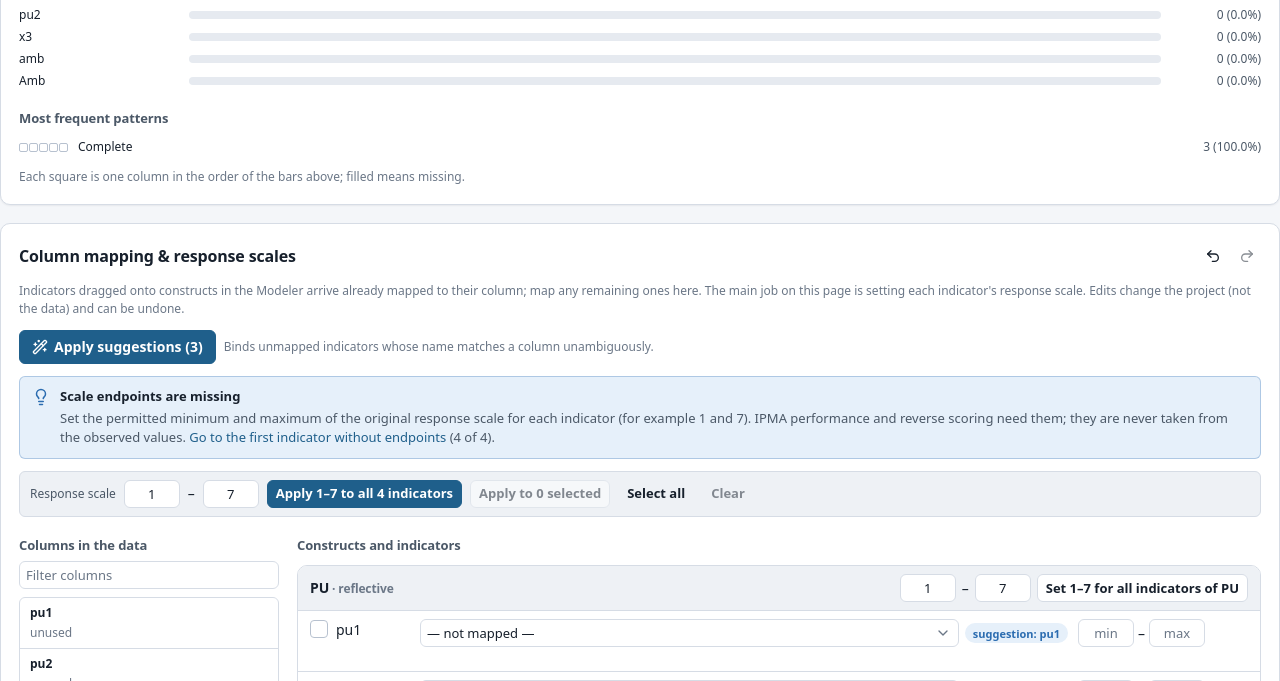
Test case: mapping › Apply suggestions binds unambiguous matches and leaves ambiguous ones
Earlier steps of the test are not shown.
(page scrolled)
Click the button "Apply suggestions (3)" at (117, 347), box [19,330,216,364]
(page scrolled)
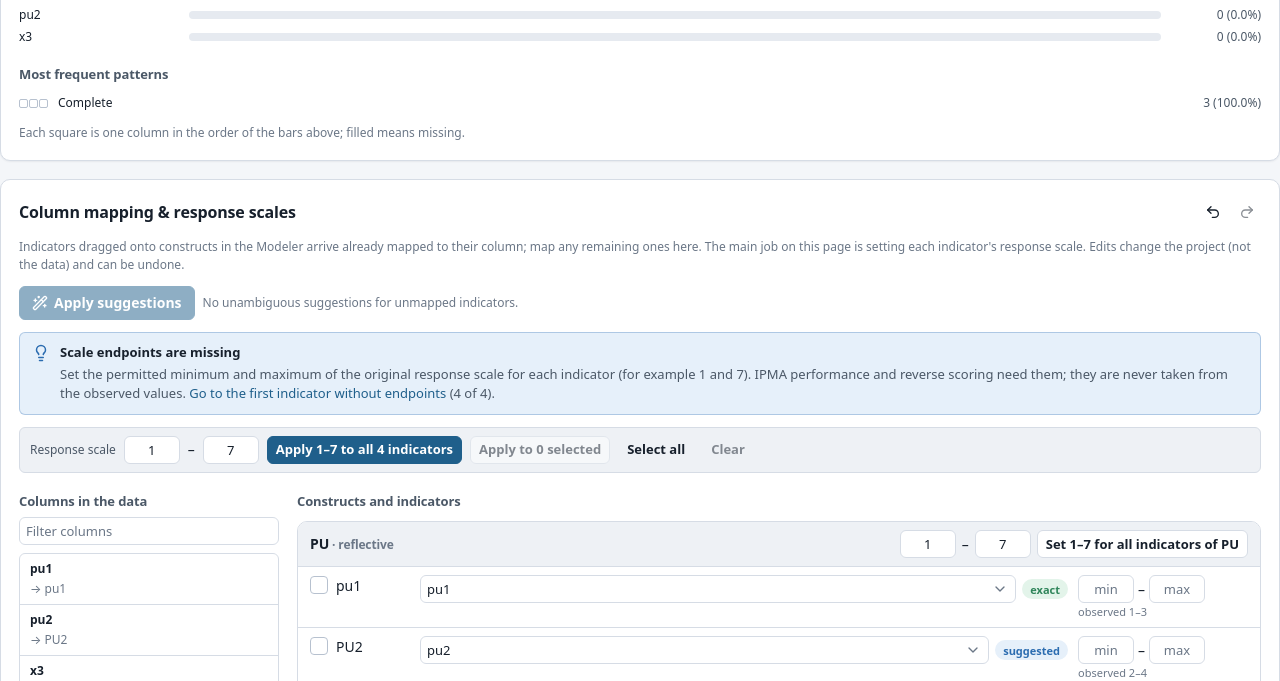
Check: the text "exact" is shown, box [1022,579,1068,599]
Check: the 1st text "suggested" is shown, box [995,640,1068,660]
